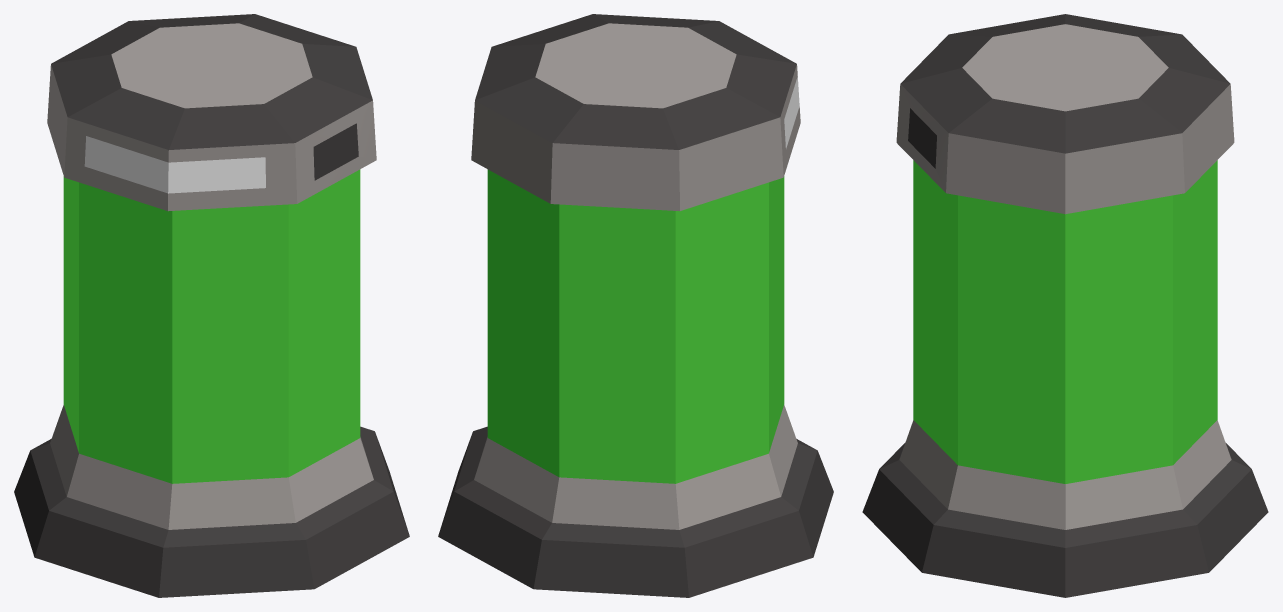
The model's file is scifi_scifi-tube-specimen-small-empty.fbx.
3 views of the same model, side by side, from view 1: azimuth 30°, elevation 25°; view 2: azimuth 150°, elevation 25°; view 3: azimuth 270°, elevation 25° (orthographic).
Parts seen in each view (by area): view 1: scifi_scifi_tube_specimen_small_empty; view 2: scifi_scifi_tube_specimen_small_empty; view 3: scifi_scifi_tube_specimen_small_empty.
Boxes of the visible parts, x1,y1,x2,y2 form: scifi_scifi_tube_specimen_small_empty: [14, 14, 409, 597]; scifi_scifi_tube_specimen_small_empty: [438, 14, 833, 597]; scifi_scifi_tube_specimen_small_empty: [862, 14, 1268, 597].
Size of the model in its own units: 166 by 200 by 166.
